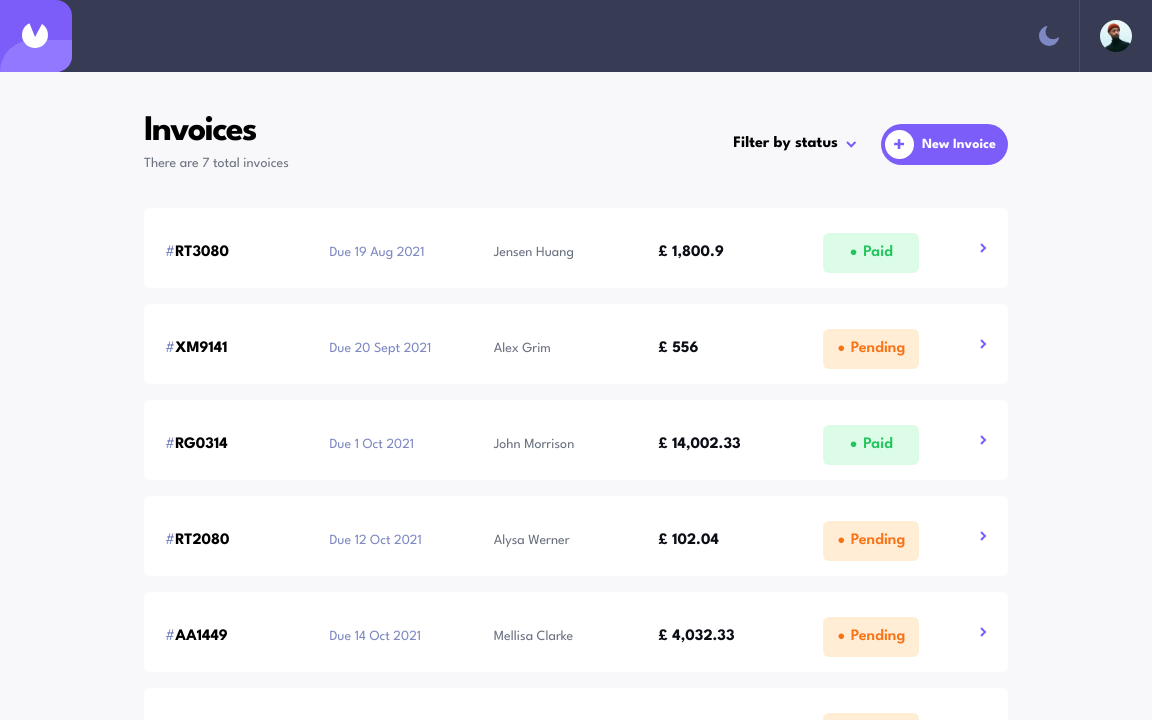
main page › should open creating invoice modal when clicked new-invoice
Click the button with test id "new-invoice" at (945, 145), box top-left (881, 124), bottom-right (1008, 165)
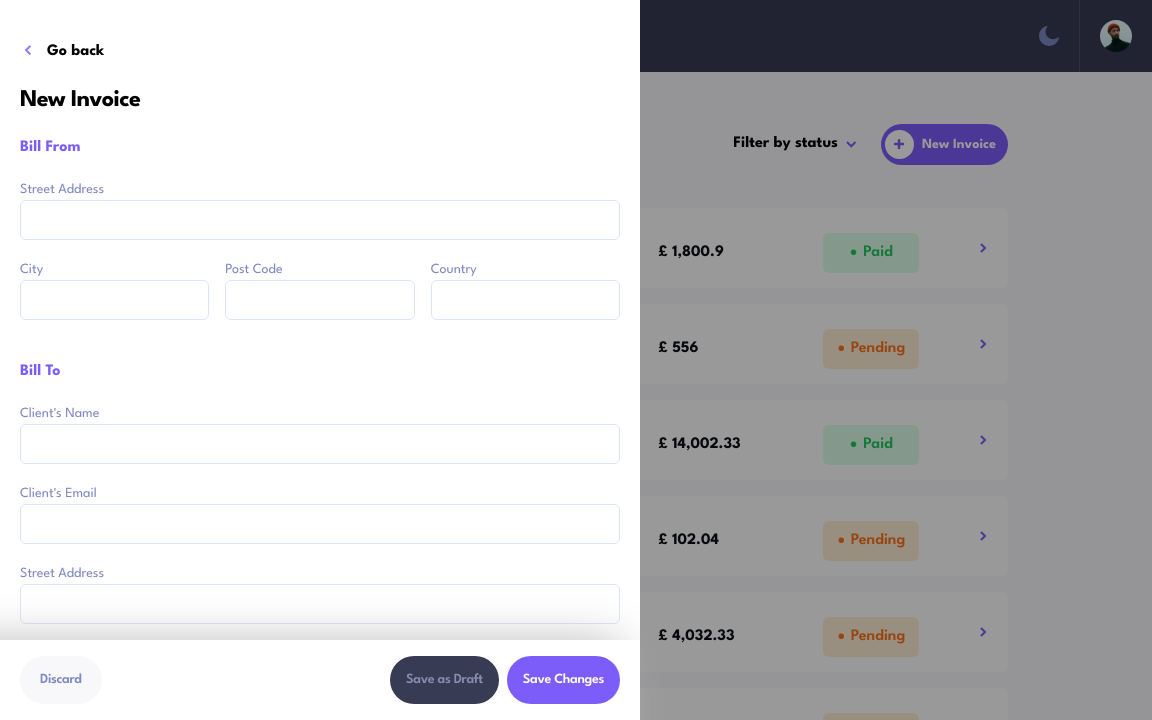
Check: the element with test id "creating-modal" is shown, box top-left (0, 0), bottom-right (640, 719)
